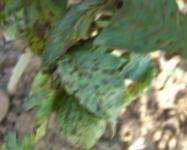Tomato leaf bacterial spot: (26, 29, 147, 138), (30, 0, 119, 90), (9, 0, 83, 61)
